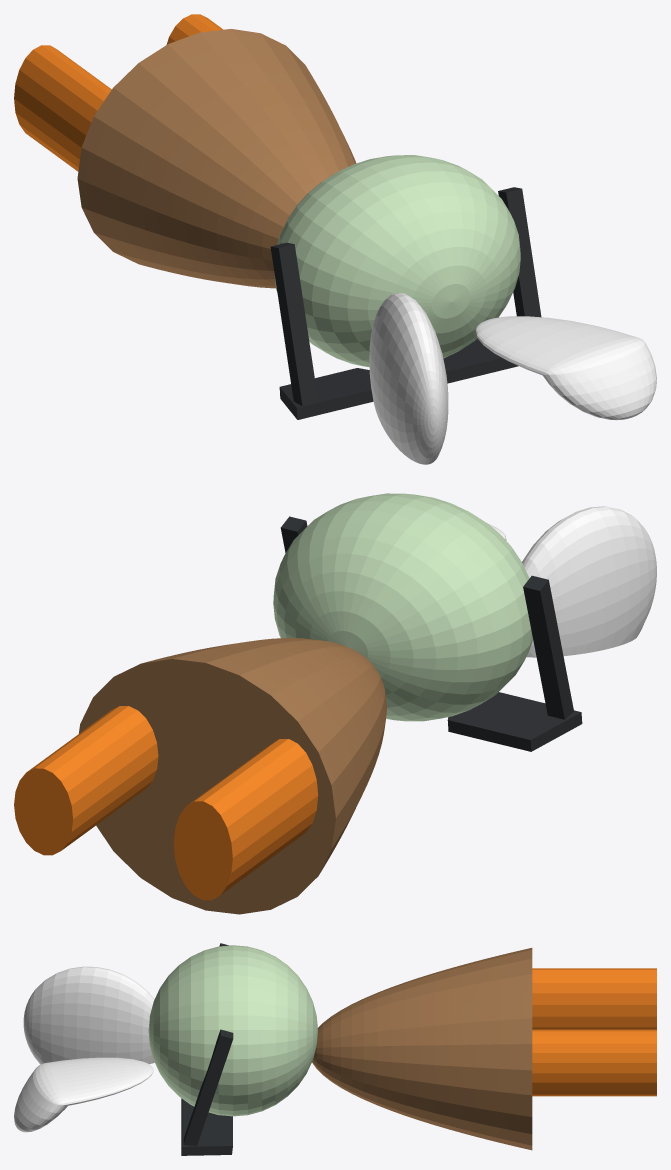
The model's file is tinker.obj.
3 renders of one model, top to bottom at view 1: azimuth 30°, elevation 25°; view 2: azimuth 150°, elevation 25°; view 3: azimuth 270°, elevation 25°, orthographic. The views are drawn at different scales.
Visible parts, largest first — view 1: group_0_11107152, group_0_13165757, group_0_16448250, group_0_2829873, group_0_16089887; view 2: group_0_11107152, group_0_13165757, group_0_16089887, group_0_16448250, group_0_2829873; view 3: group_0_11107152, group_0_13165757, group_0_16448250, group_0_16089887, group_0_2829873.
Boxes of the visible parts, x1=… form: group_0_11107152: x1=77, y1=29, x2=356, y2=288; group_0_13165757: x1=274, y1=155, x2=520, y2=367; group_0_16448250: x1=369, y1=293, x2=656, y2=464; group_0_2829873: x1=270, y1=187, x2=541, y2=419; group_0_16089887: x1=14, y1=14, x2=222, y2=171; group_0_11107152: x1=78, y1=638, x2=386, y2=914; group_0_13165757: x1=273, y1=493, x2=532, y2=721; group_0_16089887: x1=14, y1=706, x2=318, y2=900; group_0_16448250: x1=488, y1=506, x2=656, y2=657; group_0_2829873: x1=280, y1=516, x2=582, y2=751; group_0_11107152: x1=312, y1=948, x2=532, y2=1150; group_0_13165757: x1=148, y1=945, x2=317, y2=1116; group_0_16448250: x1=14, y1=966, x2=154, y2=1132; group_0_16089887: x1=532, y1=968, x2=656, y2=1096; group_0_2829873: x1=181, y1=943, x2=233, y2=1155.
Bounding box in the file's own units: 48.6 × 41 × 129.
